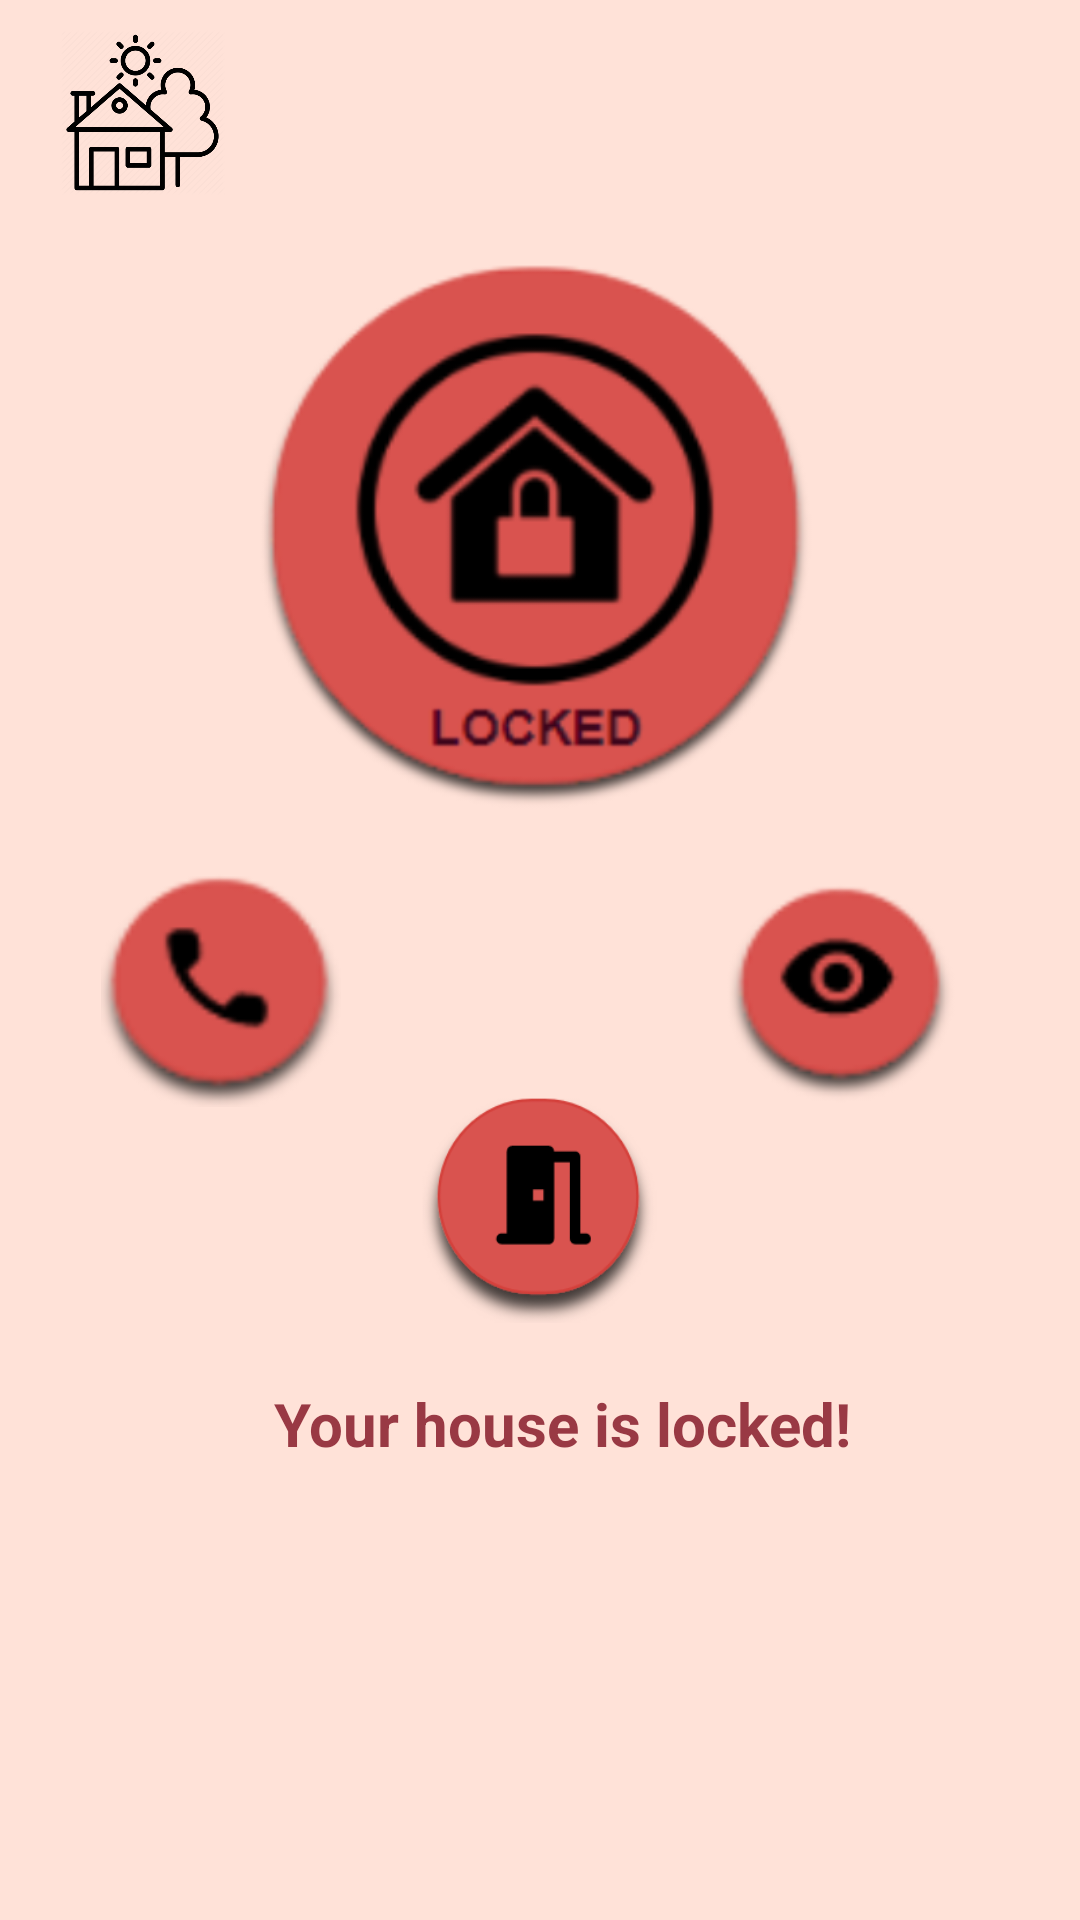

Where to tap for icons on this 1080w x 1920h app screen, as point (x, y):
front door: point (538, 1207)
house: point (142, 112)
phone: point (219, 989)
view: point (840, 990)
